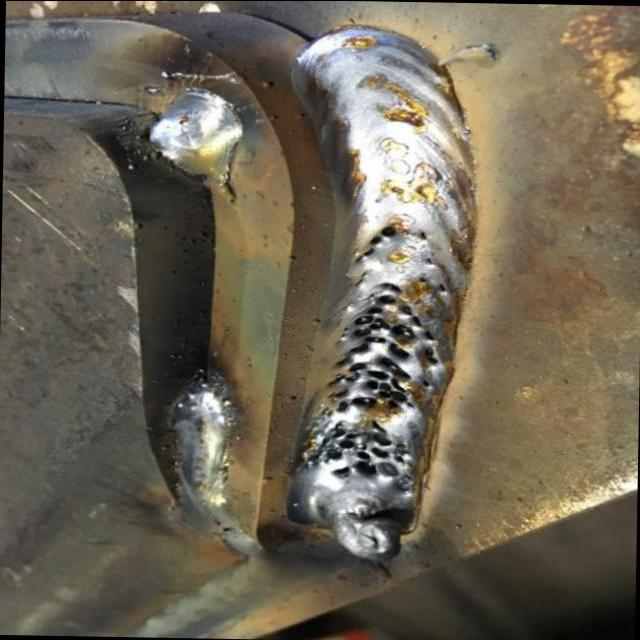defect: (321, 284, 443, 416), (303, 416, 411, 485), (344, 216, 404, 267), (348, 272, 371, 292), (414, 227, 434, 246), (435, 279, 451, 293), (423, 253, 435, 265), (413, 275, 428, 284)
